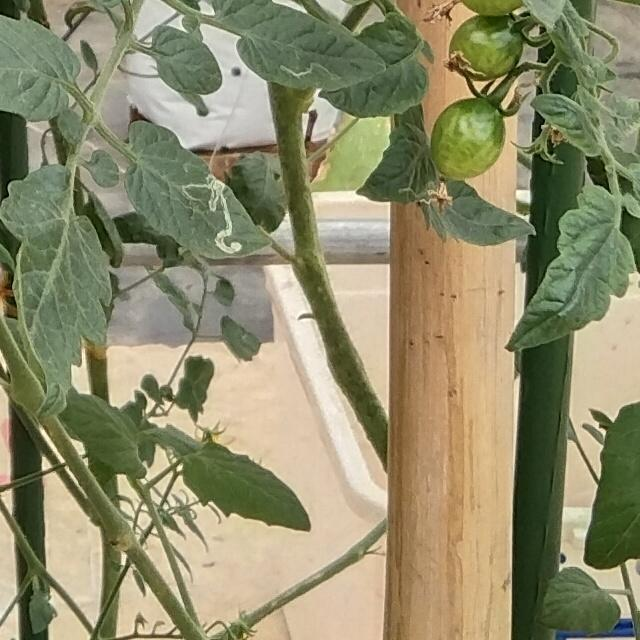Healthy: (0, 162, 112, 427), (502, 177, 637, 360), (180, 440, 312, 535), (581, 399, 640, 572), (60, 383, 148, 482), (534, 561, 622, 636), (149, 22, 222, 97)
Leaf_Miner: (123, 110, 272, 260), (237, 0, 393, 100)
